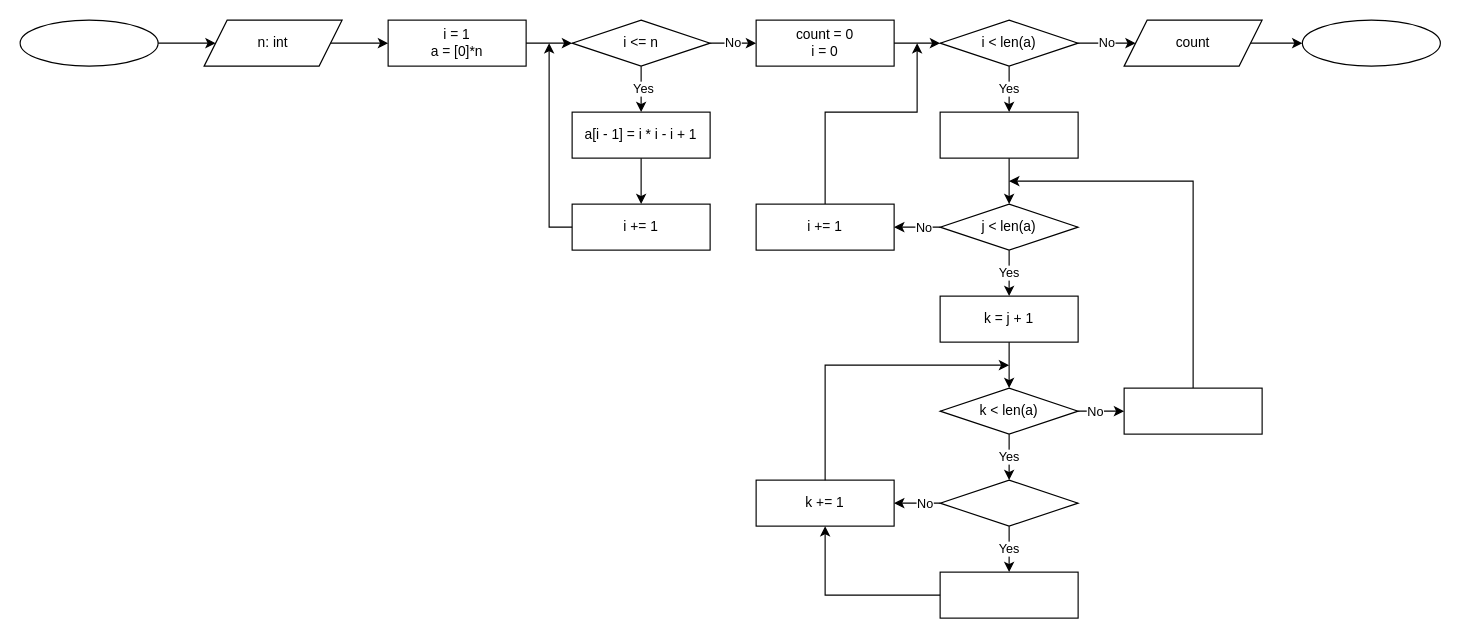
Some shapes in this 1461 by 638 pixel diagram are drawn without their labels. Here are the shapes that lost their labels. From the top down, the box of each, then its label:
(19, 19, 158, 66): Start
(1301, 19, 1440, 66): End
(939, 111, 1078, 158): j = i + 1
(1123, 387, 1262, 434): j += 1
(939, 479, 1078, 526): a[i]+a[j]+a[k]%3==0
(939, 571, 1078, 618): count += 1
